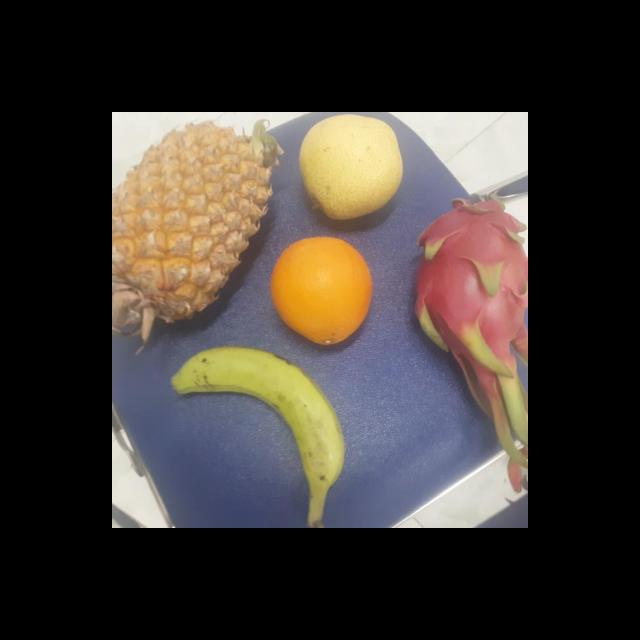banana: (172, 342, 346, 492)
orange: (270, 234, 378, 344)
pear: (299, 112, 406, 218)
pitaya: (416, 200, 528, 370)
